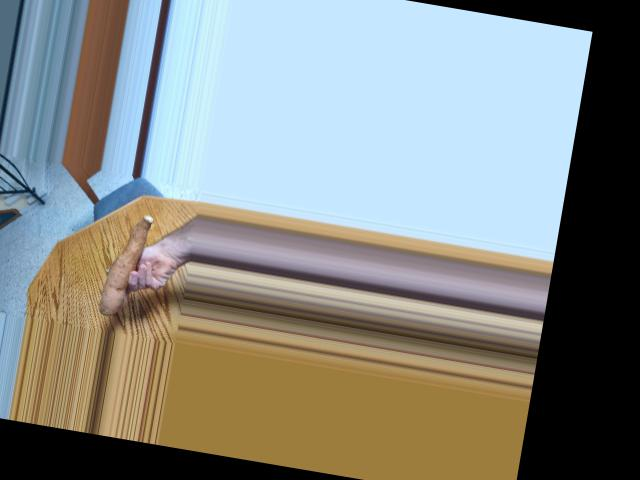sweet_potato: (93, 210, 159, 318)
